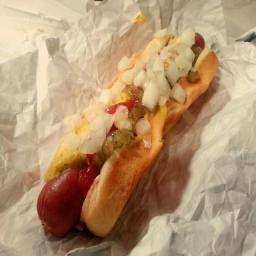hotdog: (30, 32, 202, 238)
